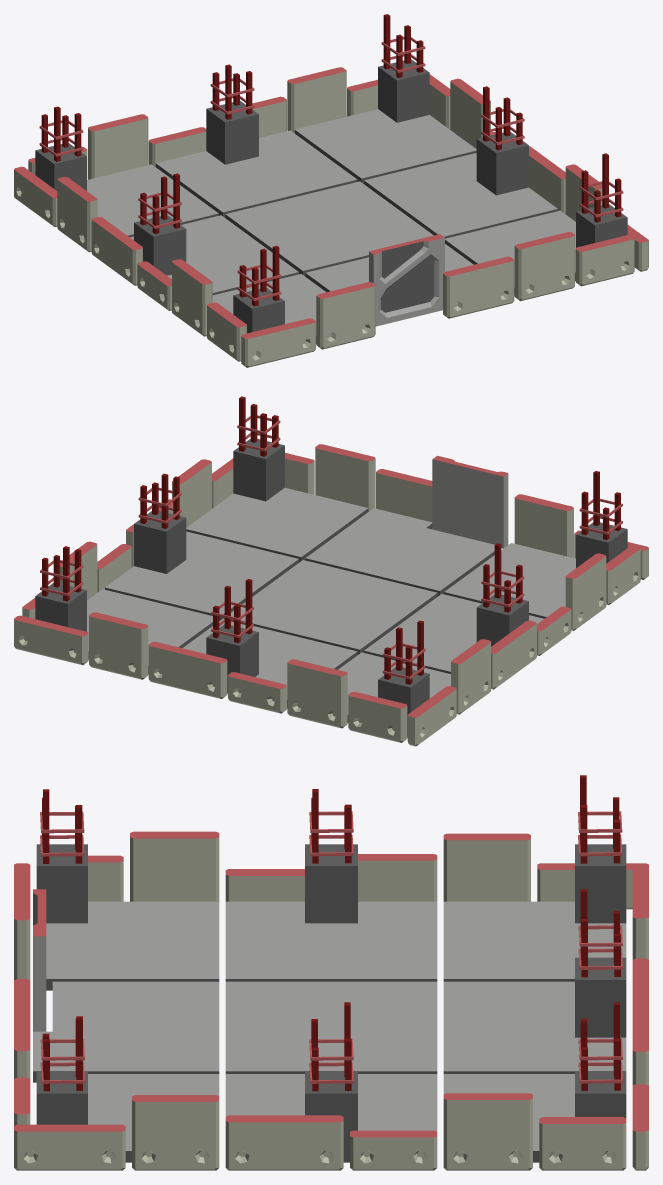
Rendered from Foundations_5x5x5_9_6_2016.fbx.
The picture shows the model from 3 angles, top to bottom: view 1: azimuth 30°, elevation 25°; view 2: azimuth 150°, elevation 25°; view 3: azimuth 270°, elevation 25°; orthographic projection. The views are drawn at different scales.
Parts seen in each view (by area): view 1: Cube.007; view 2: Cube.007; view 3: Cube.007.
Part boxes in pixels (<box>): Cube.007: <box>14,14,648,367</box>; Cube.007: <box>14,396,648,746</box>; Cube.007: <box>14,775,648,1170</box>.
Size of the model in its own units: 500 by 122 by 500.
